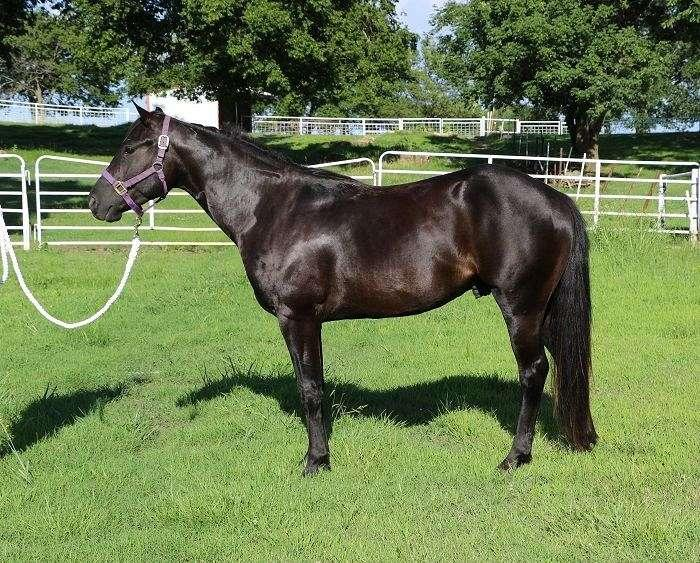horse: (86, 94, 605, 482)
